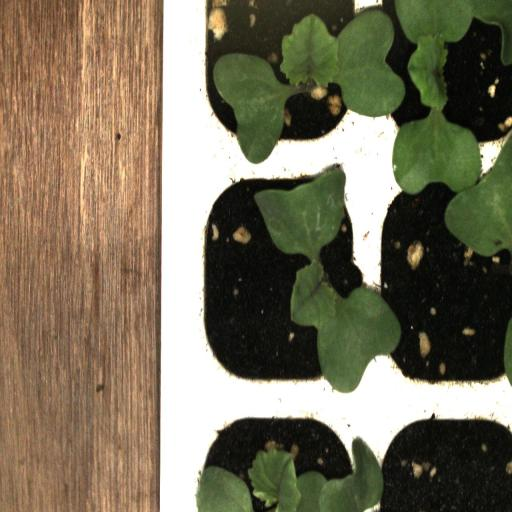Folha: (196, 438, 384, 512)
Germinacao: (190, 162, 374, 398), (190, 0, 374, 166)
